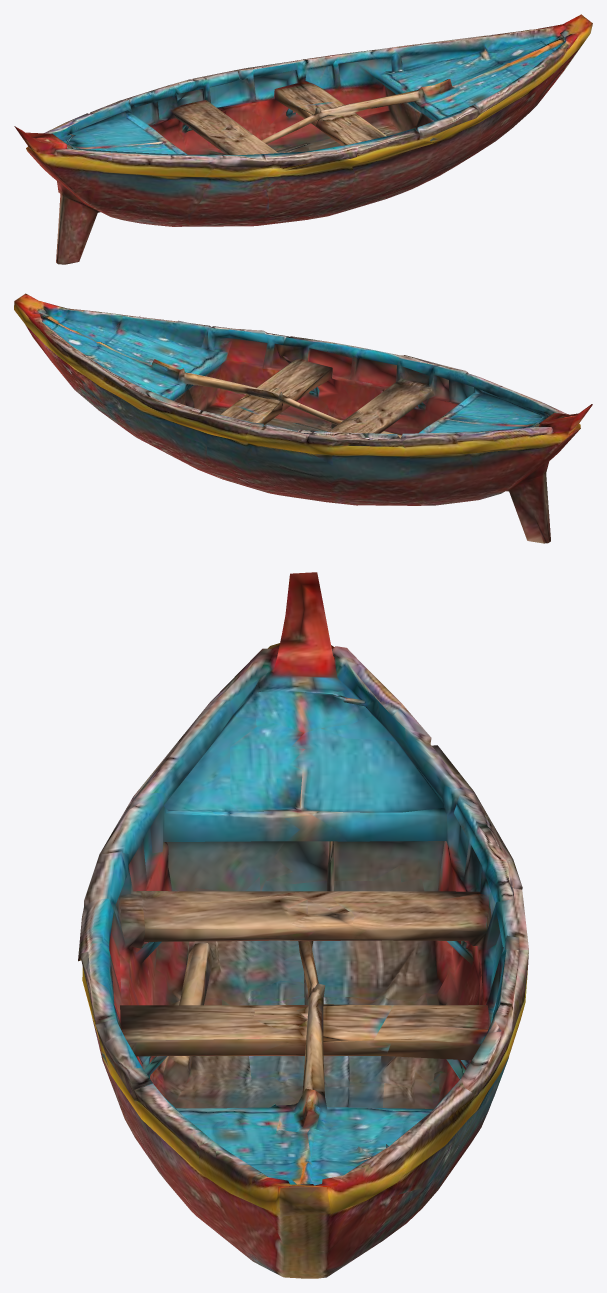
The model's file is boat-lod.glb.
The picture shows the model from 3 angles, top to bottom: view 1: azimuth 30°, elevation 25°; view 2: azimuth 150°, elevation 25°; view 3: azimuth 270°, elevation 25°; orthographic projection. The views are drawn at different scales.
Visible parts, largest first — view 1: tripo_node_ce566a43-ad53-47f5-b3ce-cf83857ab32c; view 2: tripo_node_ce566a43-ad53-47f5-b3ce-cf83857ab32c; view 3: tripo_node_ce566a43-ad53-47f5-b3ce-cf83857ab32c.
Part boxes in pixels (left/top/right/bottom): tripo_node_ce566a43-ad53-47f5-b3ce-cf83857ab32c: left=14, top=14, right=592, bottom=264; tripo_node_ce566a43-ad53-47f5-b3ce-cf83857ab32c: left=14, top=293, right=592, bottom=543; tripo_node_ce566a43-ad53-47f5-b3ce-cf83857ab32c: left=78, top=572, right=528, bottom=1278.
Size of the model in its own units: 0.9997 by 0.2476 by 0.3426.
Materials: 1 (1 with a texture image).
